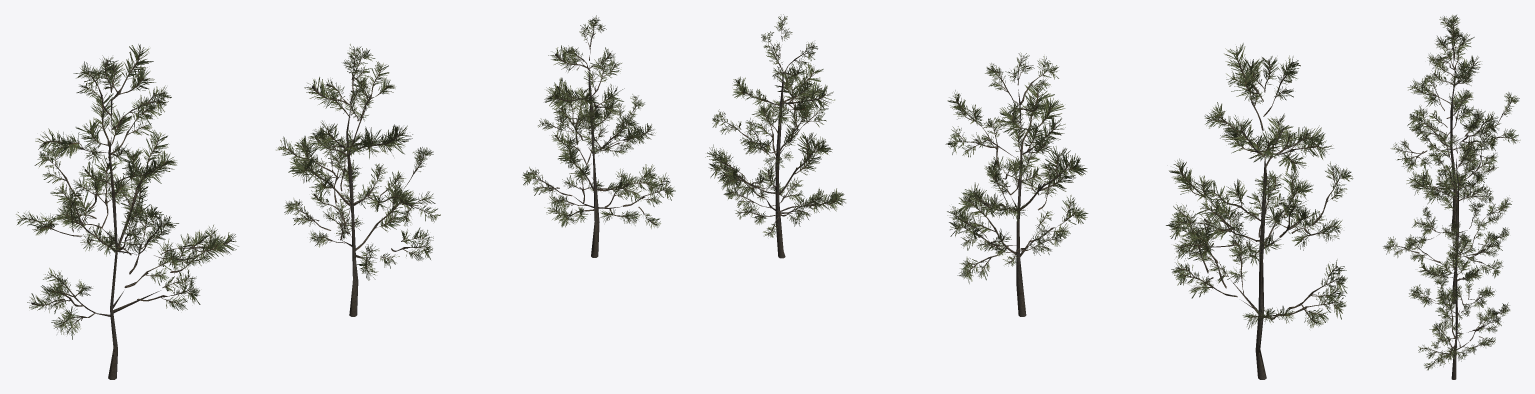
File: pine_sapling_small.glb
3 renders of one model, left to right at view 1: azimuth 30°, elevation 25°; view 2: azimuth 150°, elevation 25°; view 3: azimuth 270°, elevation 25°, orthographic. The views are drawn at different scales.
Parts seen in each view (by area): view 1: pine_sapling_small_a, pine_sapling_small_b, pine_sapling_small_c; view 2: pine_sapling_small_a, pine_sapling_small_b, pine_sapling_small_c; view 3: pine_sapling_small_a, pine_sapling_small_b, pine_sapling_small_c.
Part boxes in pixels (left/top/right/bottom): pine_sapling_small_a: left=16, top=44, right=238, bottom=379; pine_sapling_small_b: left=276, top=44, right=440, bottom=316; pine_sapling_small_c: left=522, top=15, right=675, bottom=257; pine_sapling_small_a: left=1166, top=43, right=1353, bottom=379; pine_sapling_small_b: left=945, top=52, right=1088, bottom=316; pine_sapling_small_c: left=705, top=14, right=845, bottom=258; pine_sapling_small_a: left=1390, top=15, right=1520, bottom=231; pine_sapling_small_b: left=1383, top=134, right=1512, bottom=304; pine_sapling_small_c: left=1409, top=224, right=1510, bottom=379.
Bounding box in the file's own units: 2.64 × 1.3 × 0.7703.
Materials: 2 (2 with a texture image).
